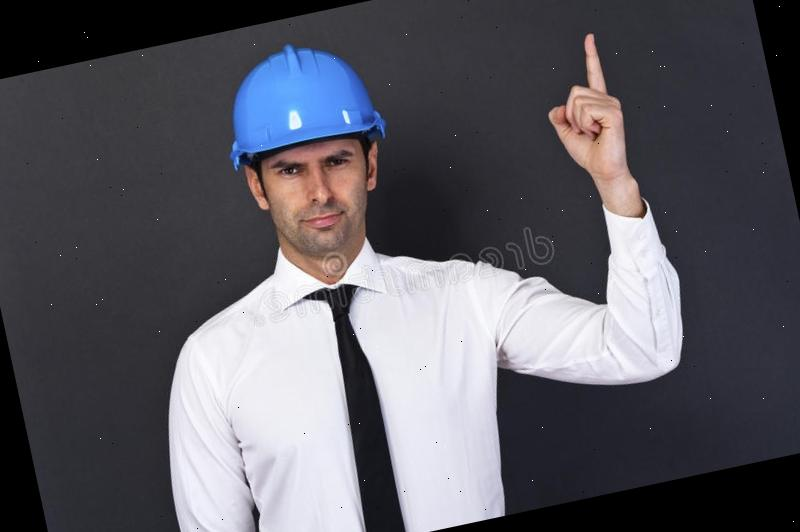helmet: (214, 27, 390, 174)
no_wear: (135, 246, 528, 532)
